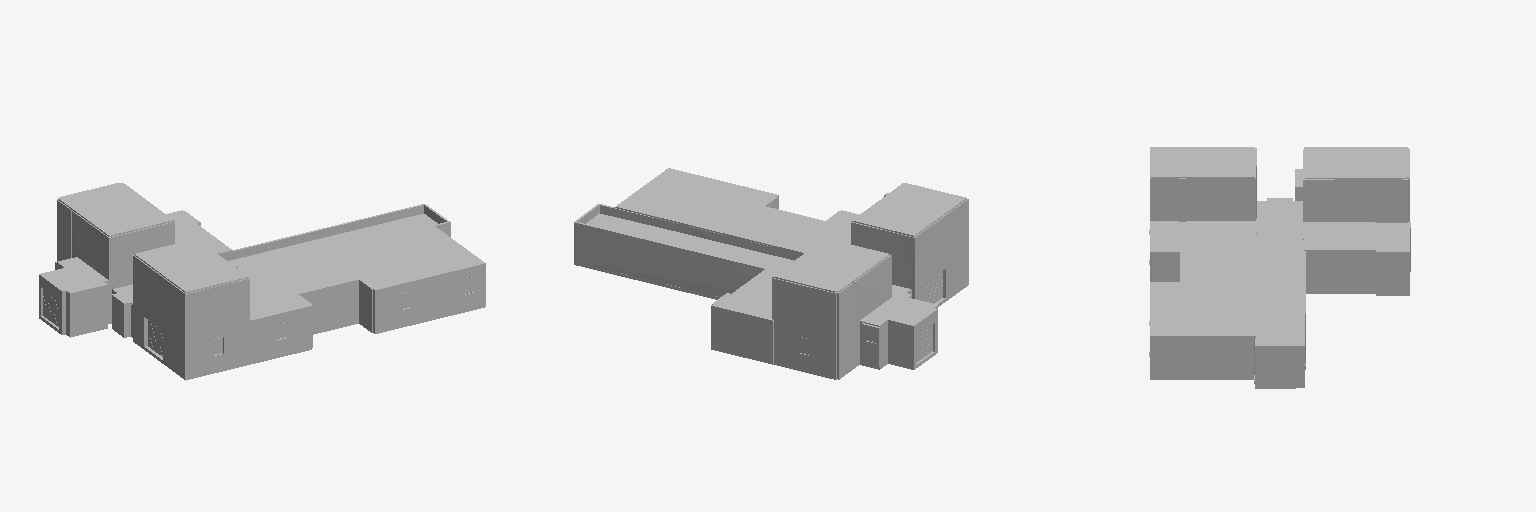
The model's file is iilab.obj.
3 renders of one model, left to right at view 1: azimuth 30°, elevation 25°; view 2: azimuth 150°, elevation 25°; view 3: azimuth 270°, elevation 25°, orthographic.
Visible parts, largest first — view 1: Cealing, Wall3, Wall4, Wall1, Cealing_002, Cealing_001, Wall2, Cealing_004, Floor, Cealing_003, Cealing_005; view 2: Wall1, Cealing, Wall3, Cealing_002, Cealing_001, Cealing_004, Wall2, Cealing_005, Cealing_003, Floor; view 3: Cealing, Wall1, Cealing_004, Wall4, Wall3, Cealing_002, Cealing_001, Cealing_005, Floor.
Part boxes in pixels (x1,y1,x2,y2): Cealing: (242,225,485,321); Wall3: (133,255,251,376); Wall4: (252,265,485,360); Wall1: (57,183,450,288); Cealing_002: (59,183,173,236); Cealing_001: (134,239,248,292); Wall2: (39,262,132,334); Cealing_004: (112,214,437,304); Floor: (39,304,485,380); Cealing_003: (39,257,108,294); Cealing_005: (166,210,232,254); Wall1: (574,204,891,376); Cealing: (615,168,858,253); Wall3: (851,193,968,301); Cealing_002: (775,238,889,292); Cealing_001: (852,183,966,236); Cealing_004: (586,213,911,298); Wall2: (860,291,937,366); Cealing_005: (711,267,780,321); Cealing_003: (860,296,937,326); Floor: (574,262,968,379); Cealing: (1150,221,1255,337); Wall1: (1254,147,1410,384); Cealing_004: (1255,198,1302,355); Wall4: (1150,253,1253,376); Wall3: (1150,147,1256,221); Cealing_002: (1305,147,1408,179); Cealing_001: (1151,147,1254,178); Cealing_005: (1303,222,1410,253); Floor: (1150,269,1410,388).
Bounding box in the file's own units: 34.88 × 8.03 × 21.72.